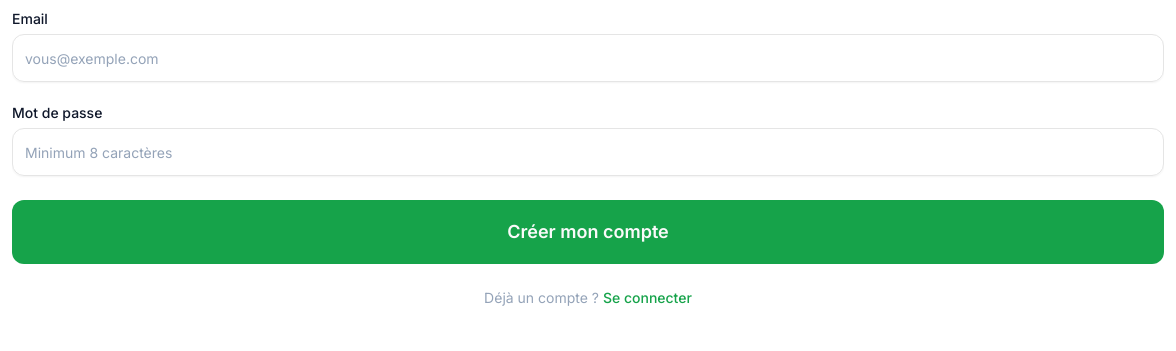
Scenario: RegisterForm › should show validation error for short password on blur
The image size is (1176, 351).
In the password field labelled "Mot de passe": (588, 152) x1=12 y1=128 x2=1164 y2=176, type "short"
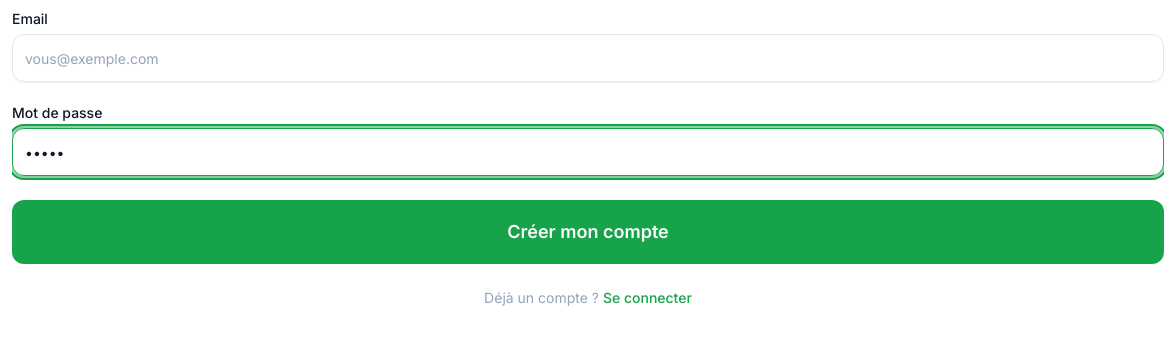
Press Tab
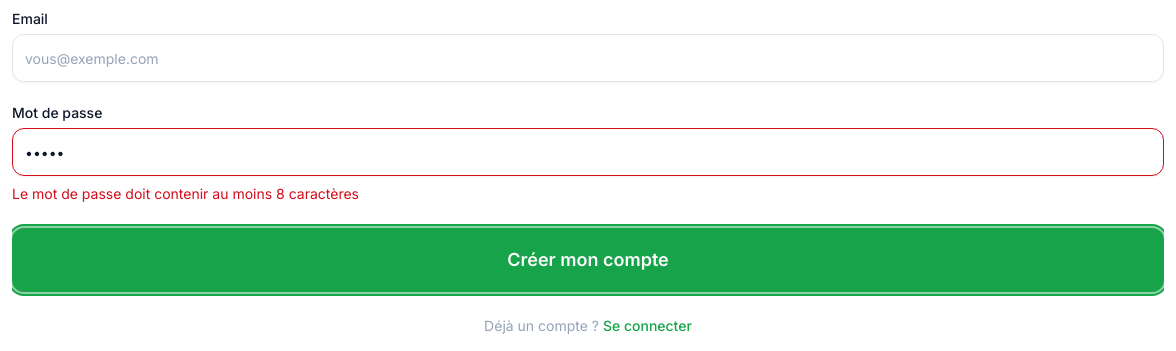
Expected: the text "Le mot de passe doit contenir au moins 8 caractères" is shown, x1=12 y1=185 x2=359 y2=202
